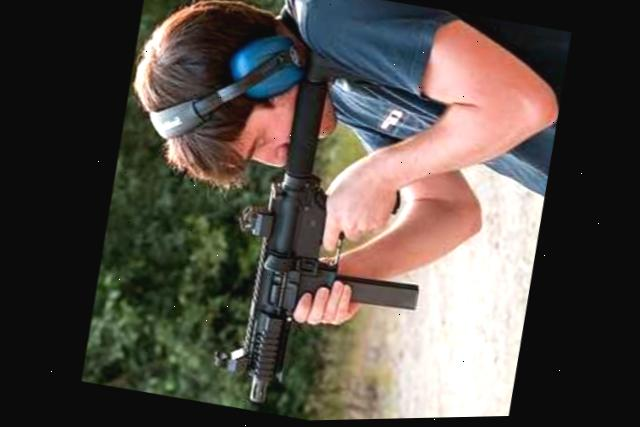rifle: (158, 0, 466, 424)
